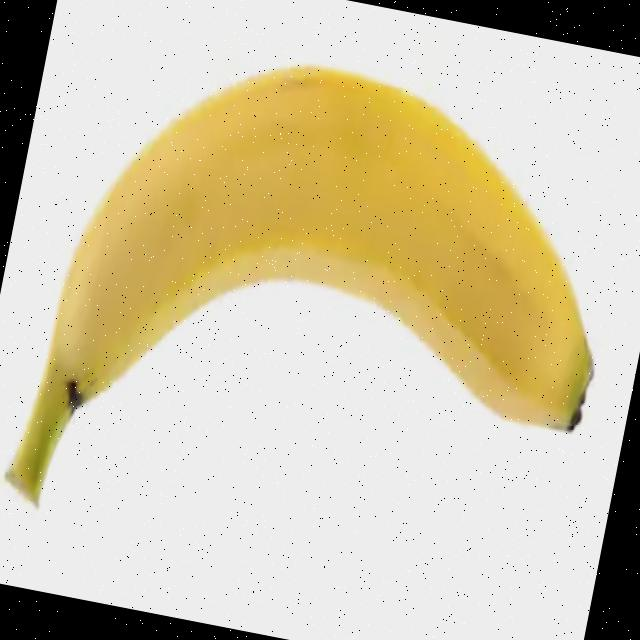Ripe: (6, 16, 640, 616)
